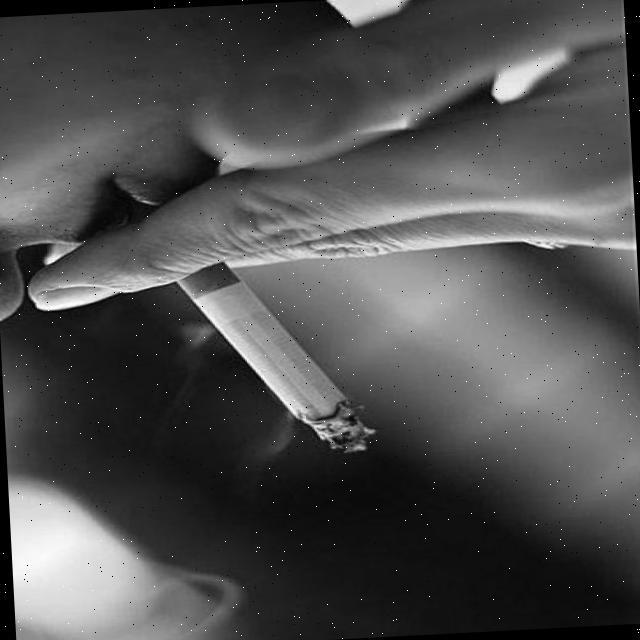cigarette: (172, 266, 344, 482)
